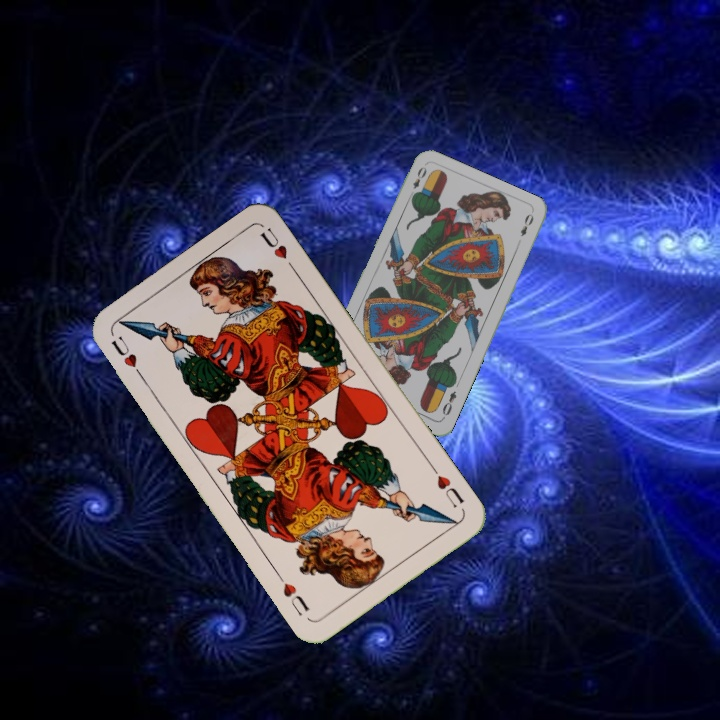EO: (405, 163, 429, 200), (438, 387, 459, 421)
HU: (107, 332, 148, 383), (427, 461, 467, 511)
